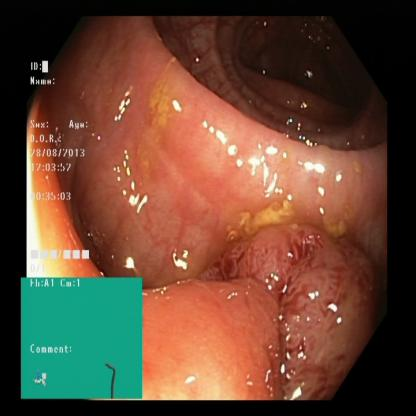Labels: (28, 57, 96, 276), (19, 278, 142, 395)
Polyps: (248, 234, 355, 376), (162, 281, 276, 400)
